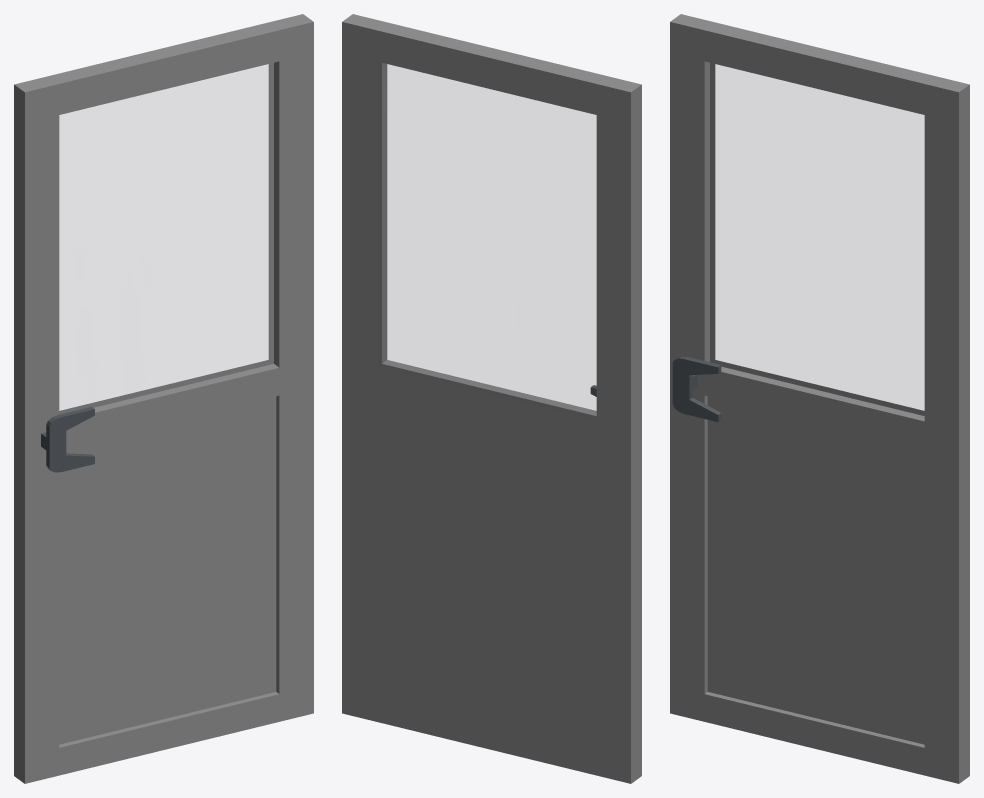
File: DoorsV9.glb
3 renders of one model, left to right at view 1: azimuth 30°, elevation 25°; view 2: azimuth 150°, elevation 25°; view 3: azimuth 330°, elevation 25°, orthographic.
Parts seen in each view (by area): view 1: FrontDoorR.004; view 2: FrontDoorR.004; view 3: FrontDoorR.004.
Part boxes in pixels (x1,y1,x2,y2): FrontDoorR.004: (14, 14, 313, 783); FrontDoorR.004: (342, 14, 641, 783); FrontDoorR.004: (670, 14, 969, 783).
Bounding box in the file's own units: 0.937 × 2.14 × 0.1224.
Materials: 3 (1 with a texture image).
